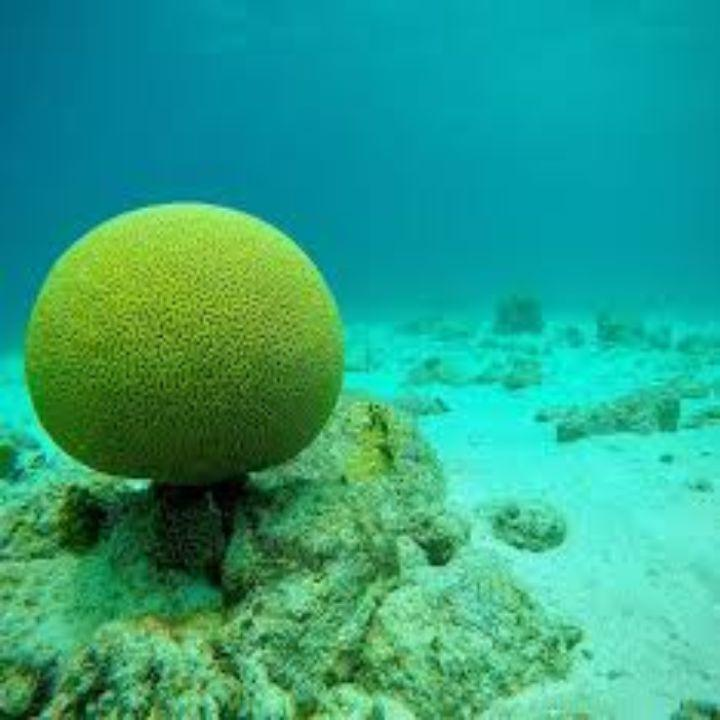Healthy Coral: (15, 185, 383, 527)
